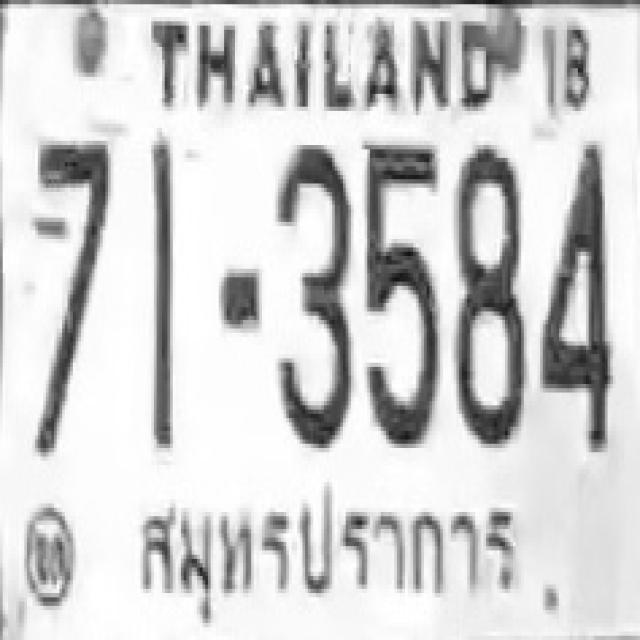1: (150, 137, 174, 448)
3: (274, 141, 352, 444)
4: (540, 139, 613, 450)
5: (363, 141, 439, 448)
7: (30, 134, 110, 454)
8: (454, 143, 524, 446)
SPK: (132, 484, 524, 598)
